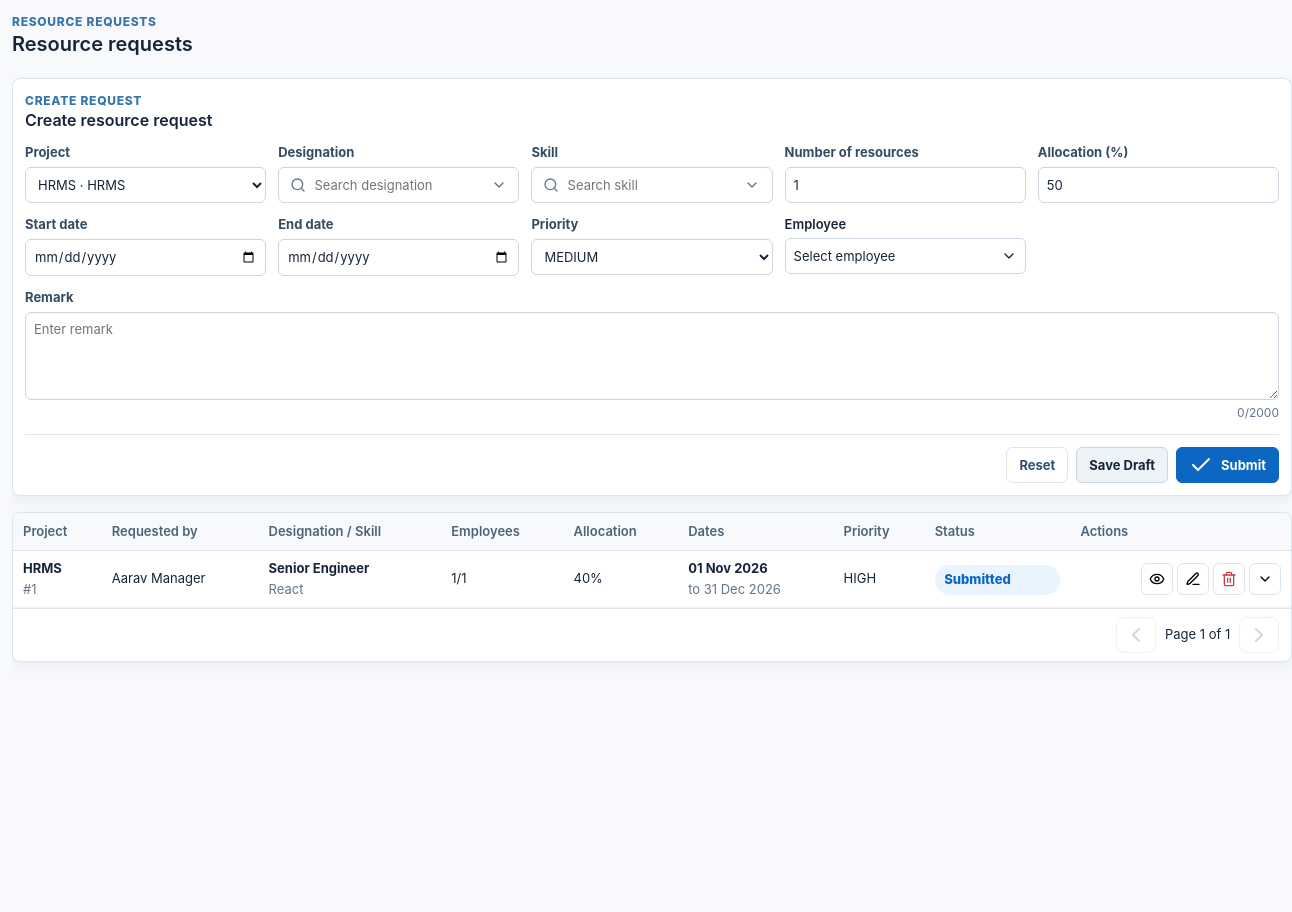
Test case: submit validates fields before opening confirmation and focuses the first invalid field
Expected: the heading "Create resource request" is shown, x1=25 y1=110 x2=212 y2=131
Click the button "Submit" at (1228, 465), box x1=1176 y1=447 x2=1279 y2=483
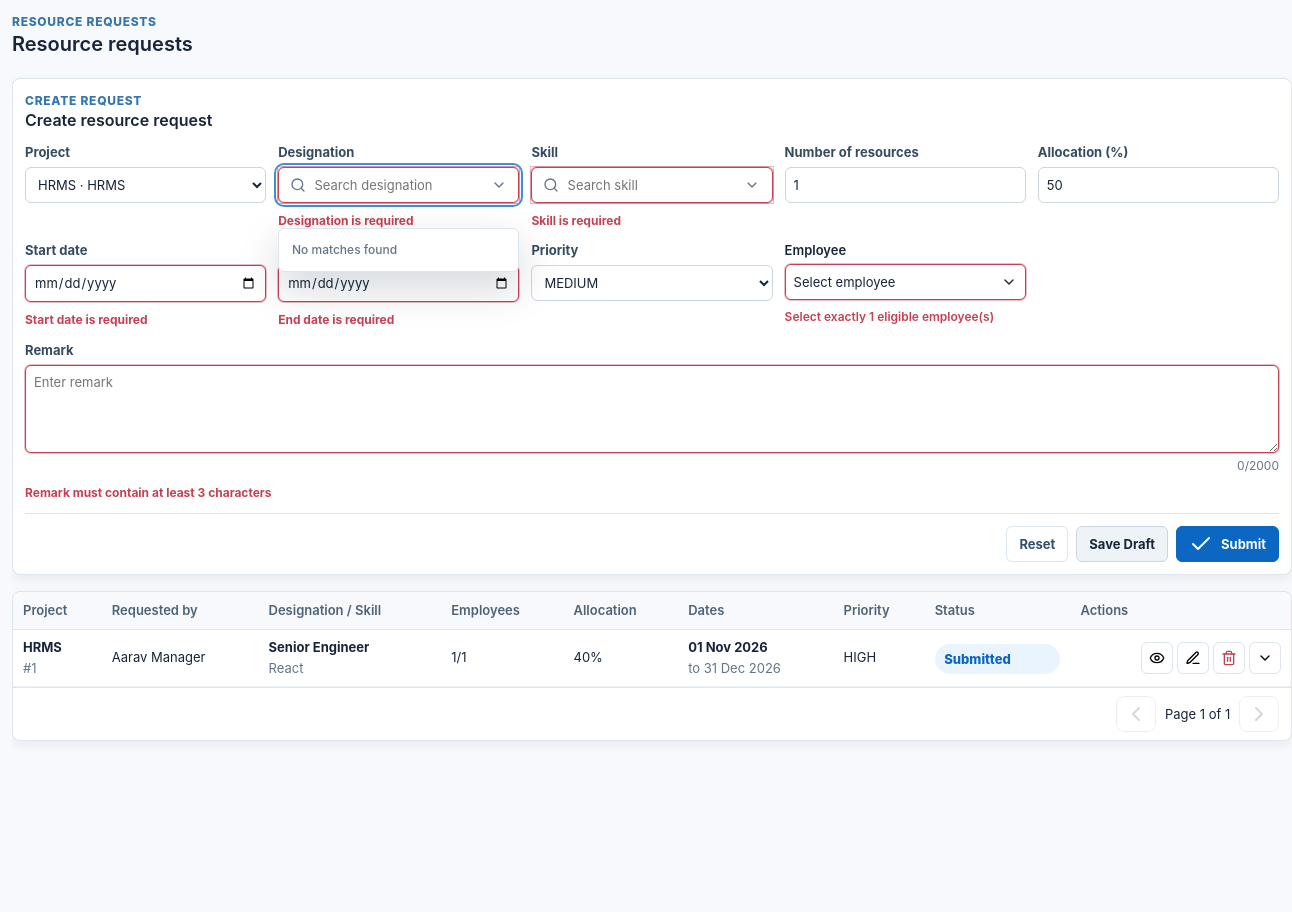
Result: the text "Designation is required" is shown at x1=278 y1=213 x2=414 y2=228
